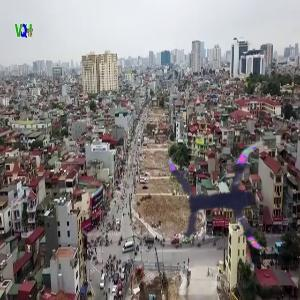drone: (170, 136, 298, 264)
